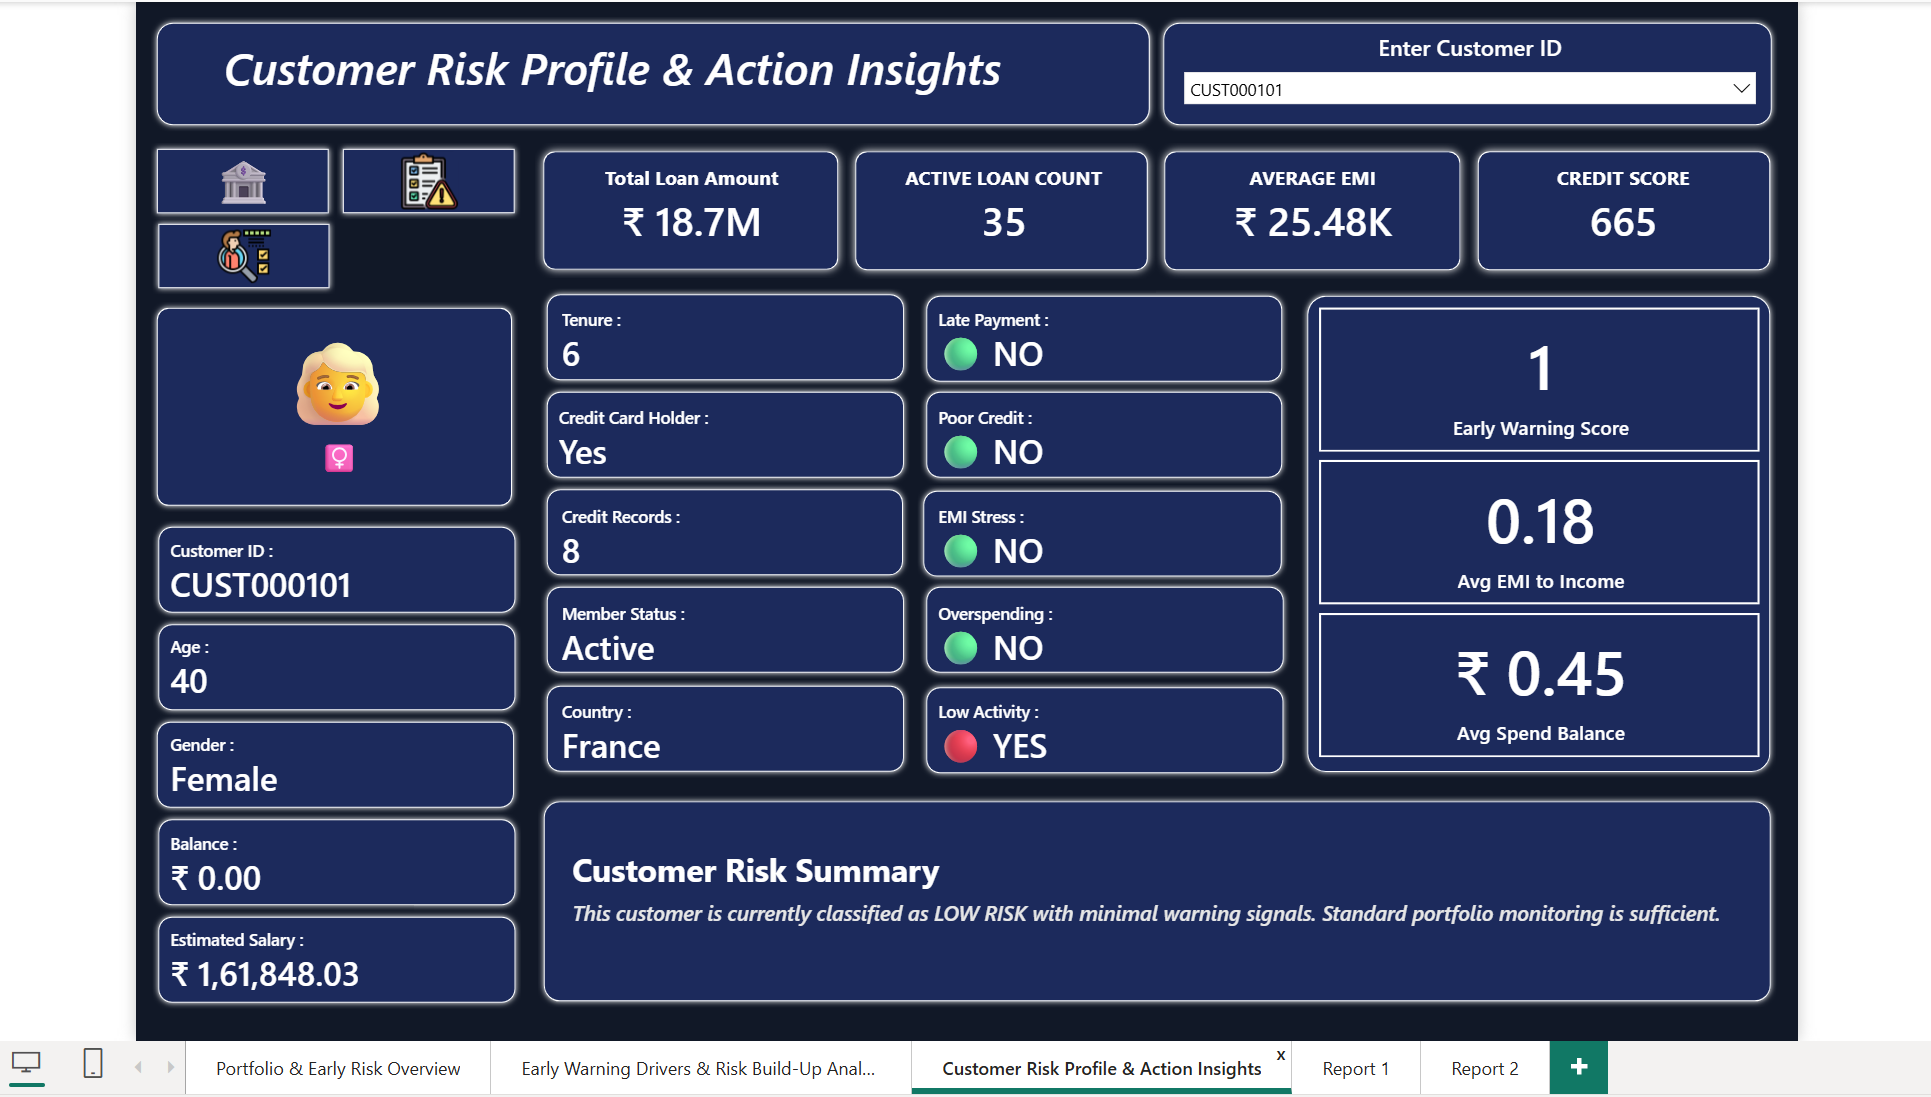

This screenshot's page, from the dashboard's own definition file:
{"tool":"powerbi","page":{"name":"Customer Risk Profile & Action Insights","canvas":[1600,1000],"ordinal":2},"visuals":[{"type":"shape","box":[15.9,207.4,176,73.2],"z":0,"group":"g4"},{"type":"shape","box":[1122,276.9,456.8,469.5],"z":0},{"type":"shape","box":[389.9,369.2,354.9,93.9],"z":0,"group":"g1"},{"type":"shape","box":[14.3,14.3,967,109.8],"z":1000},{"type":"shape","box":[389.9,275.3,354.9,93.9],"z":1000,"group":"g1"},{"type":"shape","box":[983.6,14.3,596.8,109.8],"z":2000},{"type":"shape","box":[14.4,135.6,176.7,73.3],"z":2000,"group":"g4"},{"type":"cardVisual","title":"wf","fields":{"Data":["Sum(customer.tenure)"]},"box":[393.3,277.2,251,94],"z":2000,"group":"g1"},{"type":"slicer","title":"Enter Customer ID","fields":{"Values":["customer.customer_id"]},"box":[998.3,28.3,570,78.3],"z":3000},{"type":"shape","box":[194.1,135.7,176.7,73.2],"z":3000,"group":"g4"},{"type":"cardVisual","title":"wf","fields":{"Data":["Min(customer.country)"]},"box":[393.3,652.2,251,94],"z":3000,"group":"g1"},{"type":"shape","box":[684.4,135.3,297.6,130.5],"z":4000},{"type":"actionButton","box":[25.5,140,155.6,64.4],"z":4000,"group":"g4"},{"type":"shape","box":[390.3,463.2,354,94],"z":4000,"group":"g1"},{"type":"shape","box":[383.6,135.3,300,130],"z":5000},{"type":"actionButton","box":[204.4,140,155.6,64.4],"z":5000,"group":"g4"},{"type":"shape","box":[389.9,557,354.9,93.9],"z":5000,"group":"g1"},{"type":"shape","box":[982,135.3,301,130.5],"z":6000},{"type":"actionButton","box":[26.6,211.2,155.6,64.4],"z":6000,"group":"g4"},{"type":"shape","box":[389.9,652.5,354.9,93.9],"z":6000,"group":"g1"},{"type":"shape","box":[1282.8,135.3,297.6,130.5],"z":7000},{"type":"cardVisual","title":"wf","fields":{"Data":["Min(customer.Credit Card)"]},"box":[390.3,371.2,251,94],"z":7000,"group":"g1"},{"type":"card","title":"Total Loan Amount","fields":{"Values":["customer.Total Loan Amount (for customers )"]},"box":[386.7,135.3,296,124.1],"z":8000},{"type":"cardVisual","title":"wf","fields":{"Data":["Min(customer.Member Status)"]},"box":[393.3,559.2,251,94],"z":8000,"group":"g1"},{"type":"card","title":"ACTIVE LOAN COUNT","fields":{"Values":["customer.Active Loan Count"]},"box":[687.5,135.3,296,124.1],"z":9000},{"type":"cardVisual","title":"wf","fields":{"Data":["Sum(customer.total_credit_records)"]},"box":[393.3,465.2,251,94],"z":9000,"group":"g1"},{"type":"card","title":"AVERAGE EMI","fields":{"Values":["customer.Average EMI"]},"box":[985.2,135.3,296,124.1],"z":10000},{"type":"cardVisual","title":"wf","fields":{"Data":["Min(customer.country)"]},"box":[392.6,653.4,250,93.8],"z":10000,"group":"g1"},{"type":"card","title":"CREDIT SCORE","fields":{"Values":["customer.Customer Credit Score"]},"box":[1282.8,135.3,296,124.1],"z":11000},{"type":"shape","box":[755.6,276.7,353.7,93.8],"z":11000,"group":"g1"},{"type":"shape","box":[755.6,369.1,353.7,93.8],"z":12000,"group":"g1"},{"type":"shape","box":[15.9,499.7,354.9,93.9],"z":12000},{"type":"shape","box":[752.6,464.7,356.2,93.8],"z":13000,"group":"g1"},{"type":"cardVisual","title":"wf","fields":{"Data":["Min(customer.customer_id)"]},"box":[15.9,499.7,251.5,93.9],"z":13000},{"type":"shape","box":[755.6,556.8,355.2,93.8],"z":14000,"group":"g1"},{"type":"shape","box":[15.9,593.6,354.9,93.9],"z":14000},{"type":"cardVisual","title":"wf","fields":{"Data":["Sum(customer.age)"]},"box":[15.9,592,251.5,93.9],"z":15000},{"type":"shape","box":[754.5,653.6,354.9,93.9],"z":15000,"group":"g1"},{"type":"cardVisual","title":"wf","fields":{"Data":["Min(early_warning_final.Late Payment)"]},"box":[755.1,277.2,250,93.8],"z":16000,"group":"g1"},{"type":"shape","box":[14.3,687.5,354.9,93.9],"z":16000},{"type":"cardVisual","title":"wf","fields":{"Data":["Min(early_warning_final.Poor Credit)"]},"box":[755.1,370.9,250,93.8],"z":17000,"group":"g1"},{"type":"shape","box":[15.9,781.4,354.9,93.9],"z":17000},{"type":"cardVisual","title":"wf","fields":{"Data":["Min(early_warning_final.EMI Stress)"]},"box":[755.1,465.9,250,93.8],"z":18000,"group":"g1"},{"type":"cardVisual","title":"wf","fields":{"Data":["Sum(customer.balance)"]},"box":[15.9,781.4,251.5,93.9],"z":18000},{"type":"cardVisual","title":"wf","fields":{"Data":["Min(early_warning_final.Overspending)"]},"box":[755.1,559.7,250,93.8],"z":19000,"group":"g1"},{"type":"shape","box":[15.9,875.3,354.9,93.9],"z":19000},{"type":"cardVisual","title":"wf","fields":{"Data":["Min(early_warning_final.Low Activity)"]},"box":[755.1,653.4,250,93.8],"z":20000,"group":"g1"},{"type":"cardVisual","title":"wf","fields":{"Data":["Sum(customer.estimated_salary)"]},"box":[16,874,251,94],"z":20000},{"type":"cardVisual","title":"wf","fields":{"Data":["Min(customer.gender)"]},"box":[16,686,251,94],"z":21000},{"type":"group","id":"g1","title":"Group 1","box":[389.9,275.3,720.9,472.2],"z":22000},{"type":"cardVisual","fields":{"Data":["early_warning_final.Early Warning Score","early_warning_final.Avg EMI to Income","early_warning_final.Avg Spend Balance"]},"box":[1133.2,288.1,434.5,445.6],"z":23000},{"type":"shape","box":[386.7,763.9,1192,203.7],"z":24000},{"type":"cardVisual","title":"Customer Risk Summary","fields":{"Data":["early_warning_final.Customer Risk Summary"]},"box":[402.7,746.4,1165,210.1],"z":25000},{"type":"shape","box":[14.3,288.1,353.1,201.8],"z":25500,"group":"g3"},{"type":"textbox","box":[79.6,28.6,829.2,78],"z":26000},{"type":"group","id":"g2","title":"Group 3","box":[14.3,288.1,358.1,237.1],"z":27000},{"type":"group","id":"g3","title":"Group 2","box":[14.3,288.1,355.6,201.8],"z":27000,"group":"g2"},{"type":"card","fields":{"Values":["Min(customer.Gender Age Symbol)"]},"box":[16.8,289.8,353.1,137.9],"z":27000,"group":"g3"},{"type":"group","id":"g4","title":"Group 1","box":[14.4,135.6,356.4,145],"z":28000},{"type":"card","fields":{"Values":["Min(customer.Gender Symbol)"]},"box":[19.3,352,353.1,173.2],"z":28000,"group":"g2"}]}

Visuals, with their boxes on the page's 1600x1000 design canvas (x1, y1, x2, y2). These are canvas units, not pixel positions in the 1931x1097 screenshot, which may show the page scaled, cropped or inside an application window:
shape: bbox=(16, 207, 192, 281)
shape: bbox=(1122, 277, 1579, 746)
shape: bbox=(390, 369, 745, 463)
shape: bbox=(14, 14, 981, 124)
shape: bbox=(390, 275, 745, 369)
shape: bbox=(984, 14, 1580, 124)
shape: bbox=(14, 136, 191, 209)
"wf" cardVisual: bbox=(393, 277, 644, 371)
"Enter Customer ID" slicer: bbox=(998, 28, 1568, 107)
shape: bbox=(194, 136, 371, 209)
"wf" cardVisual: bbox=(393, 652, 644, 746)
shape: bbox=(684, 135, 982, 266)
actionButton: bbox=(26, 140, 181, 204)
shape: bbox=(390, 463, 744, 557)
shape: bbox=(384, 135, 684, 265)
actionButton: bbox=(204, 140, 360, 204)
shape: bbox=(390, 557, 745, 651)
shape: bbox=(982, 135, 1283, 266)
actionButton: bbox=(27, 211, 182, 276)
shape: bbox=(390, 652, 745, 746)
shape: bbox=(1283, 135, 1580, 266)
"wf" cardVisual: bbox=(390, 371, 641, 465)
"Total Loan Amount" card: bbox=(387, 135, 683, 259)
"wf" cardVisual: bbox=(393, 559, 644, 653)
"ACTIVE LOAN COUNT" card: bbox=(688, 135, 984, 259)
"wf" cardVisual: bbox=(393, 465, 644, 559)
"AVERAGE EMI" card: bbox=(985, 135, 1281, 259)
"wf" cardVisual: bbox=(393, 653, 643, 747)
"CREDIT SCORE" card: bbox=(1283, 135, 1579, 259)
shape: bbox=(756, 277, 1109, 370)
shape: bbox=(756, 369, 1109, 463)
shape: bbox=(16, 500, 371, 594)
shape: bbox=(753, 465, 1109, 558)
"wf" cardVisual: bbox=(16, 500, 267, 594)
shape: bbox=(756, 557, 1111, 651)
shape: bbox=(16, 594, 371, 688)
"wf" cardVisual: bbox=(16, 592, 267, 686)
shape: bbox=(754, 654, 1109, 748)
"wf" cardVisual: bbox=(755, 277, 1005, 371)
shape: bbox=(14, 688, 369, 781)
"wf" cardVisual: bbox=(755, 371, 1005, 465)
shape: bbox=(16, 781, 371, 875)
"wf" cardVisual: bbox=(755, 466, 1005, 560)
"wf" cardVisual: bbox=(16, 781, 267, 875)
"wf" cardVisual: bbox=(755, 560, 1005, 654)
shape: bbox=(16, 875, 371, 969)
"wf" cardVisual: bbox=(755, 653, 1005, 747)
"wf" cardVisual: bbox=(16, 874, 267, 968)
"wf" cardVisual: bbox=(16, 686, 267, 780)
"Group 1" group: bbox=(390, 275, 1111, 748)
cardVisual - early_warning_final.Early Warning Score x early_warning_final.Avg EMI to Income: bbox=(1133, 288, 1568, 734)
shape: bbox=(387, 764, 1579, 968)
"Customer Risk Summary" cardVisual: bbox=(403, 746, 1568, 956)
shape: bbox=(14, 288, 367, 490)
textbox: bbox=(80, 29, 909, 107)
"Group 3" group: bbox=(14, 288, 372, 525)
"Group 2" group: bbox=(14, 288, 370, 490)
card - Min(customer.Gender Age Symbol): bbox=(17, 290, 370, 428)
"Group 1" group: bbox=(14, 136, 371, 281)
card - Min(customer.Gender Symbol): bbox=(19, 352, 372, 525)
